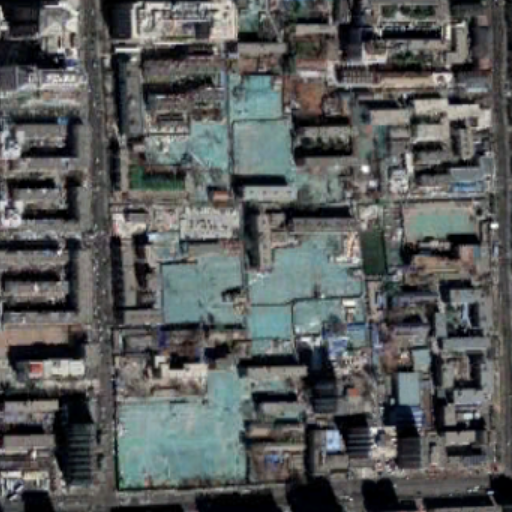cw: (147, 70, 350, 207), (157, 229, 373, 348), (116, 365, 255, 489)
